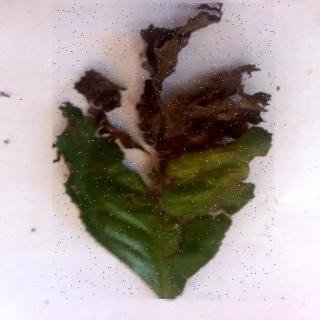Brown Blight: (54, 5, 276, 302)
